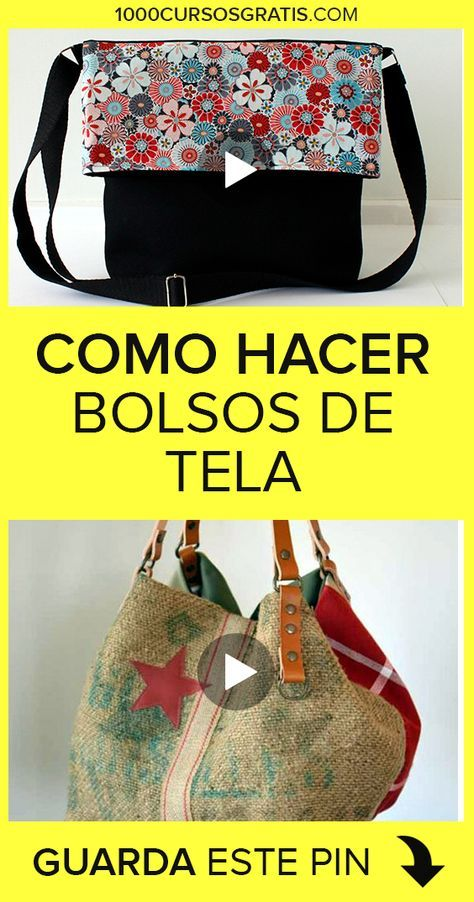cuero: (138, 519, 344, 681)
